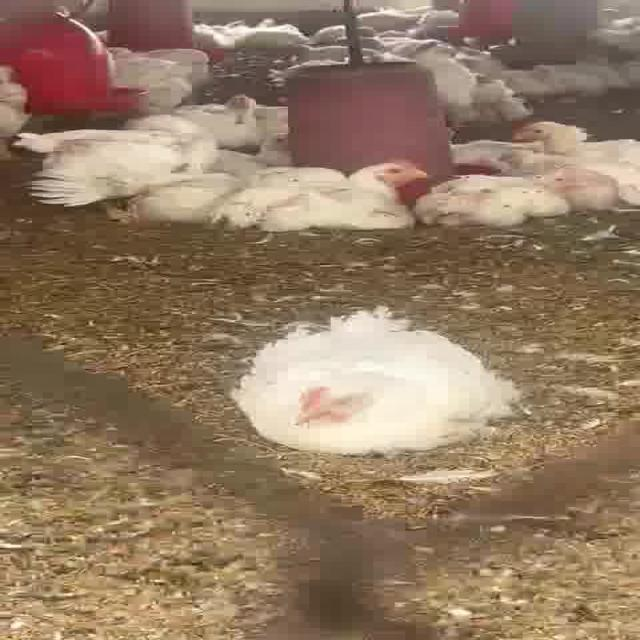AbNormal: (230, 313, 514, 457), (214, 160, 441, 232), (426, 166, 597, 226), (518, 120, 640, 158)
